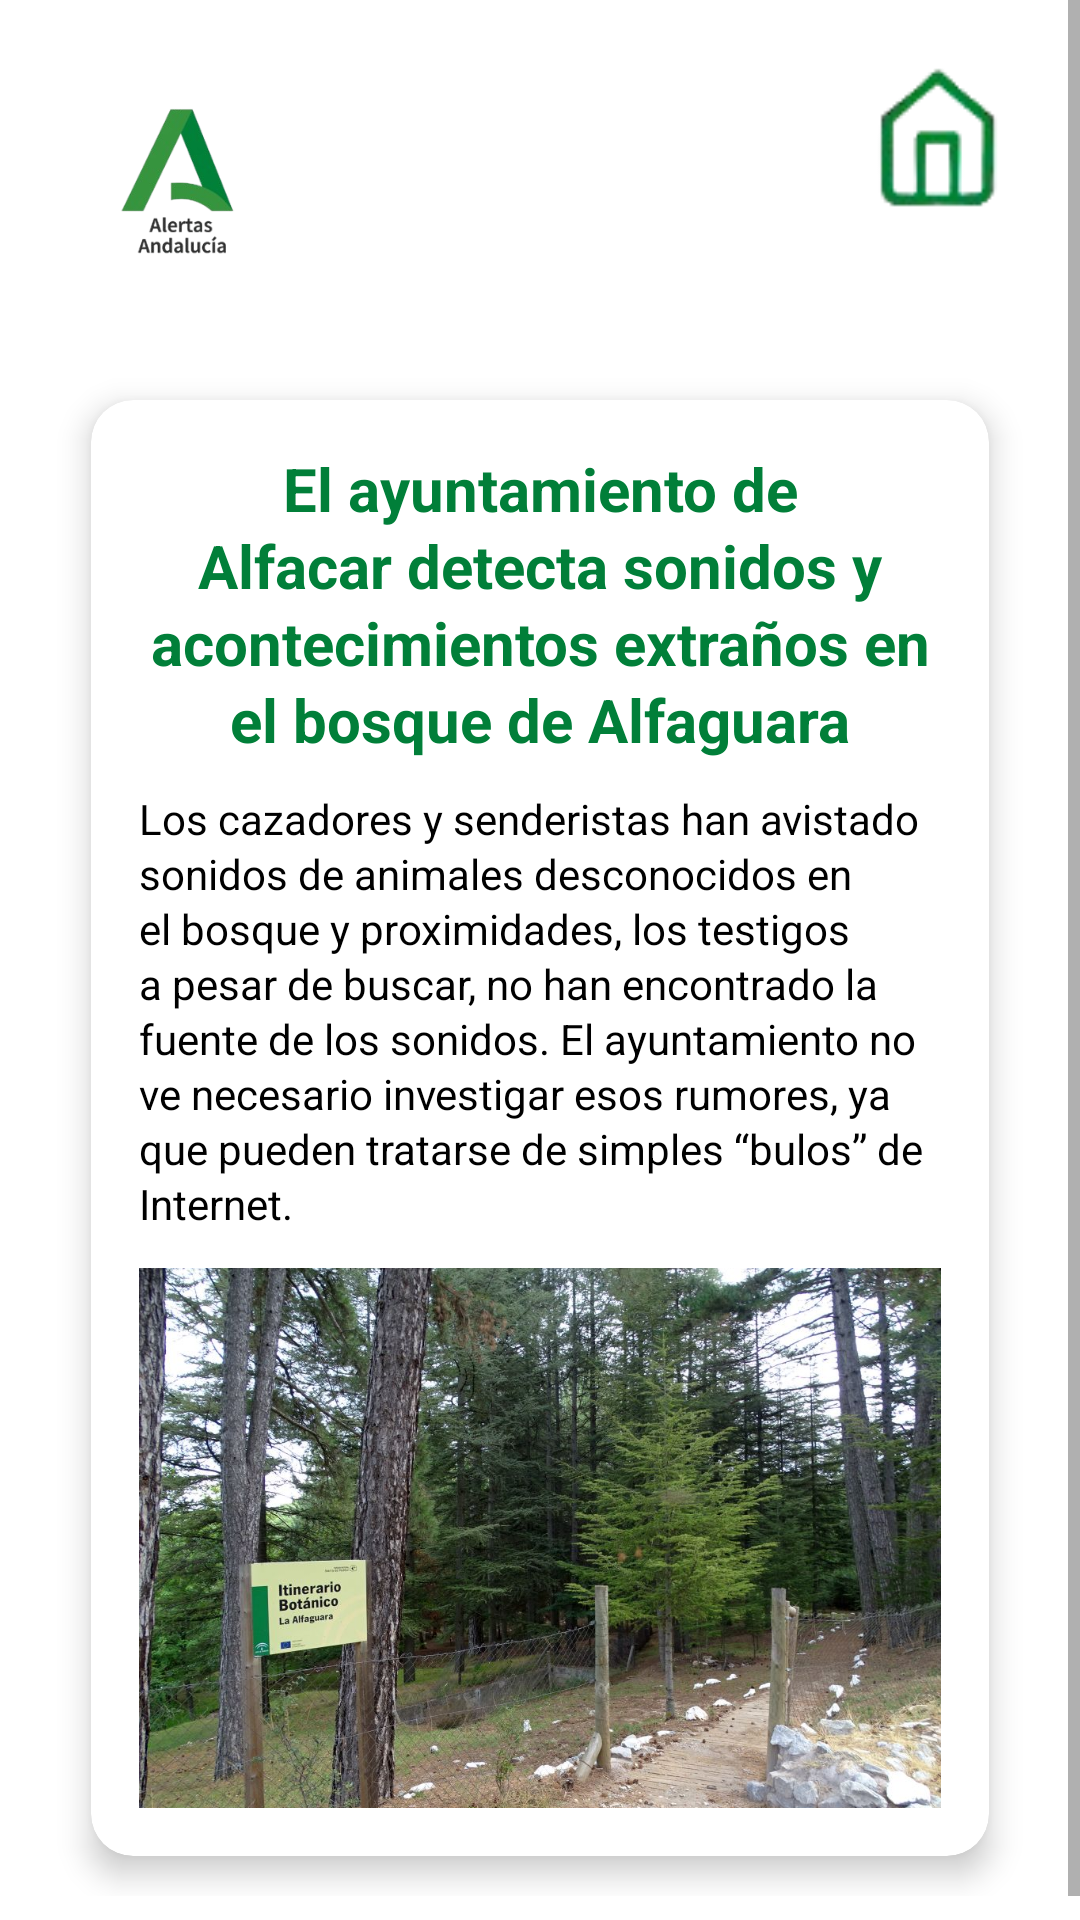

Icons on this 1080 x 1920 Android screen, each with the point to tap as (x,y):
homebutton: (938,138)
